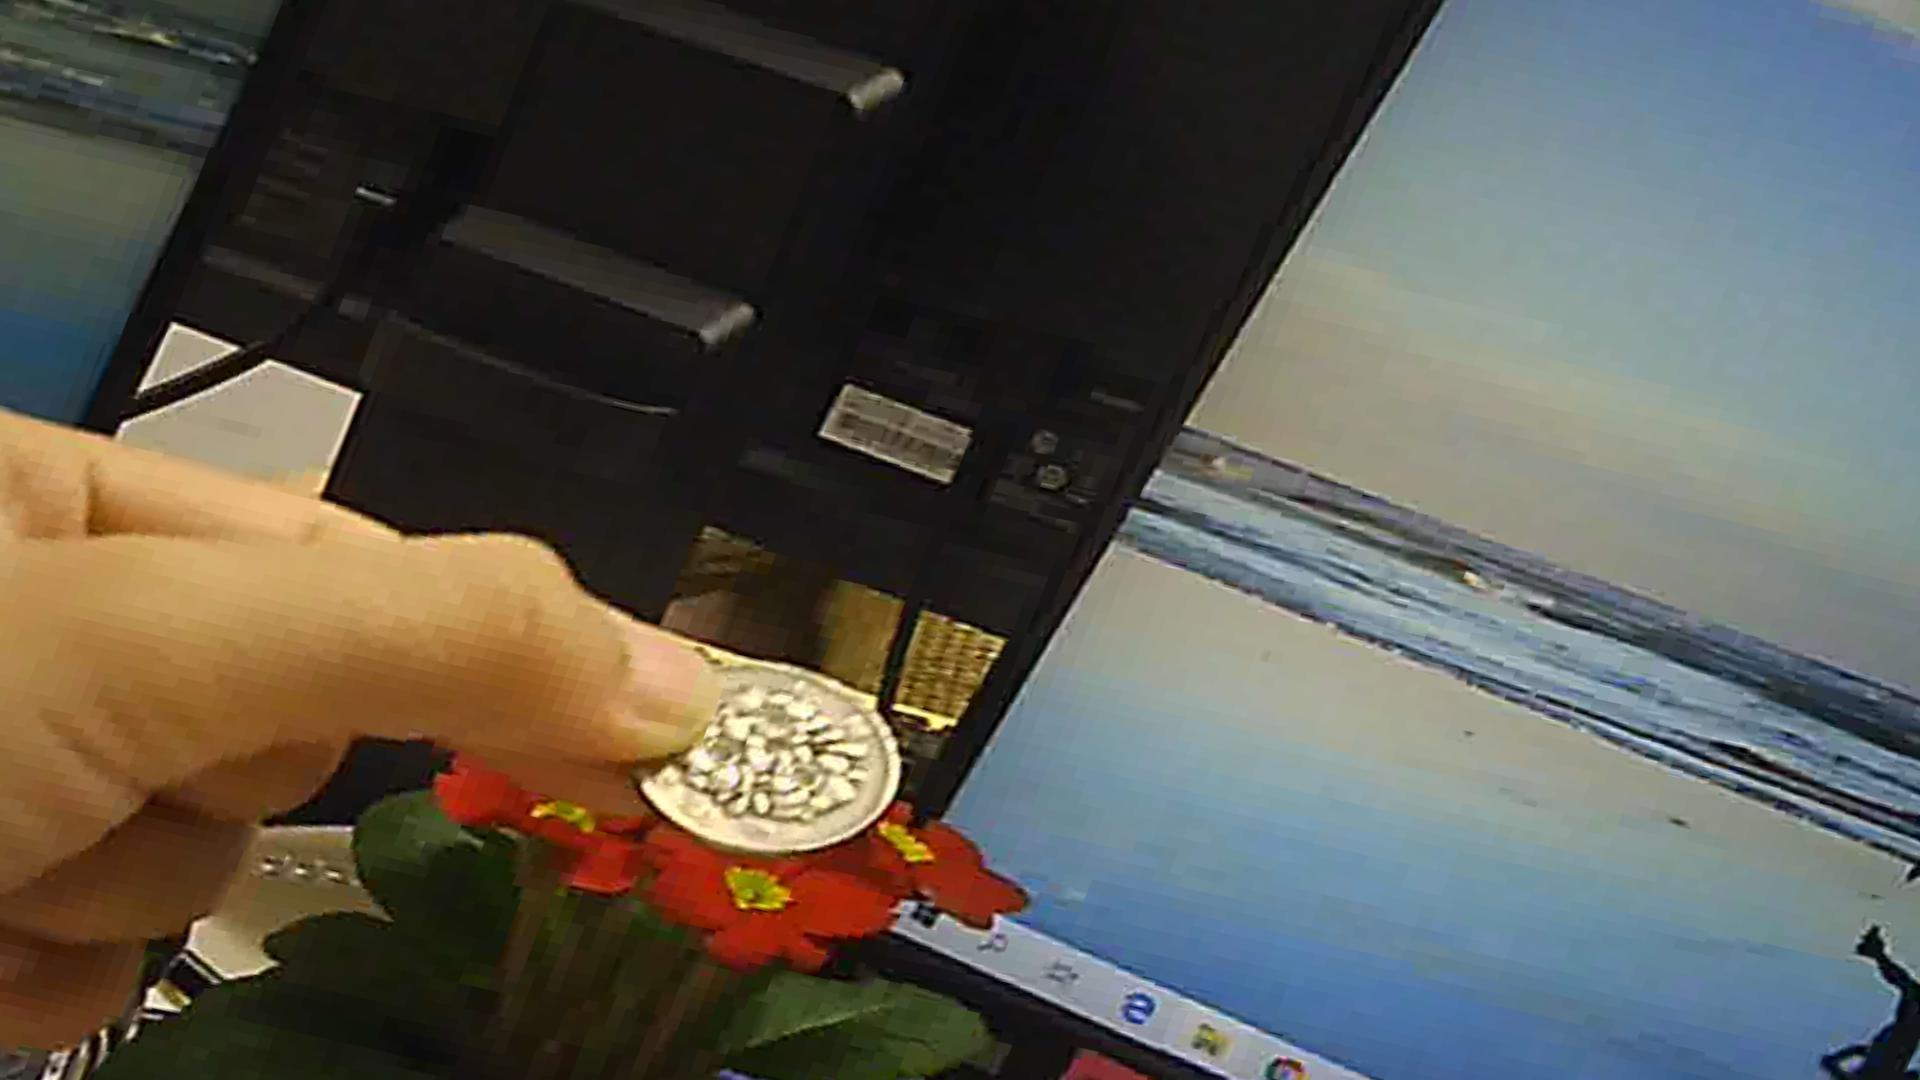100 Yen: (633, 650, 905, 855)
